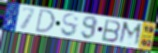7: (19, 6, 36, 31)
9: (81, 15, 100, 41)
B: (101, 18, 123, 44)
D: (34, 8, 57, 34)
M: (117, 21, 144, 49)
S: (60, 13, 80, 38)
